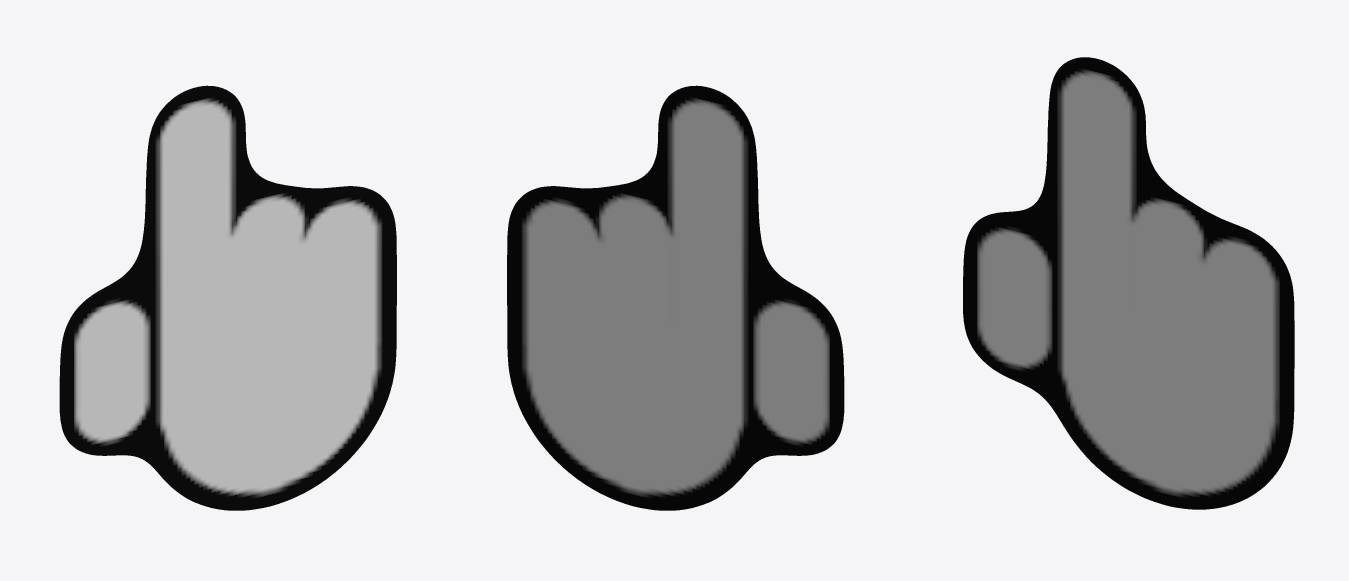
File: cursor_hand_ready.fbx
The picture shows the model from 3 angles, left to right: view 1: azimuth 30°, elevation 25°; view 2: azimuth 150°, elevation 25°; view 3: azimuth 330°, elevation 25°; orthographic projection.
Parts seen in each view (by area): view 1: cursor_sizeNorthSouth_ring_interaction; view 2: cursor_sizeNorthSouth_ring_interaction; view 3: cursor_sizeNorthSouth_ring_interaction.
Boxes of the visible parts, left/top/right/bottom form: cursor_sizeNorthSouth_ring_interaction: left=59, top=85, right=396, bottom=510; cursor_sizeNorthSouth_ring_interaction: left=507, top=85, right=844, bottom=510; cursor_sizeNorthSouth_ring_interaction: left=963, top=57, right=1294, bottom=509.
Size of the model in its own units: 2.21 by 2.55 by 0.
1 material, 1 textured.
